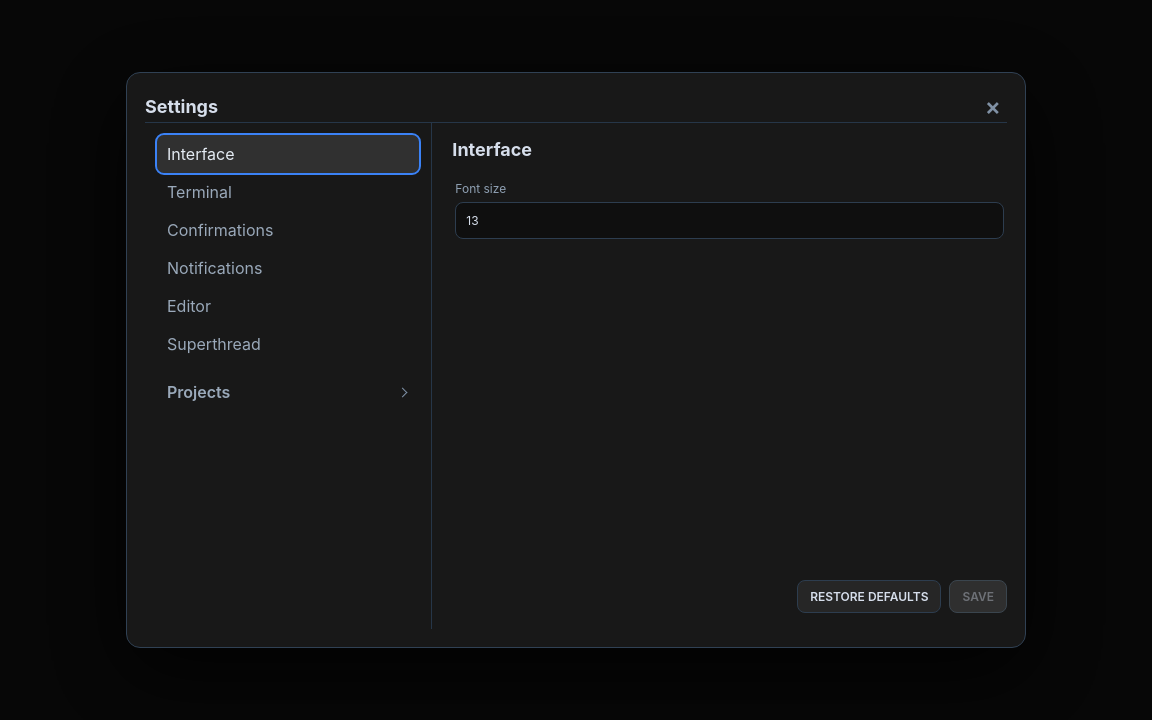
Test: SettingsDialog › exposes global navigation and an accessible right-chevron Projects disclosure
Click the button "Projects" at (199, 392), box [157,373,419,411]
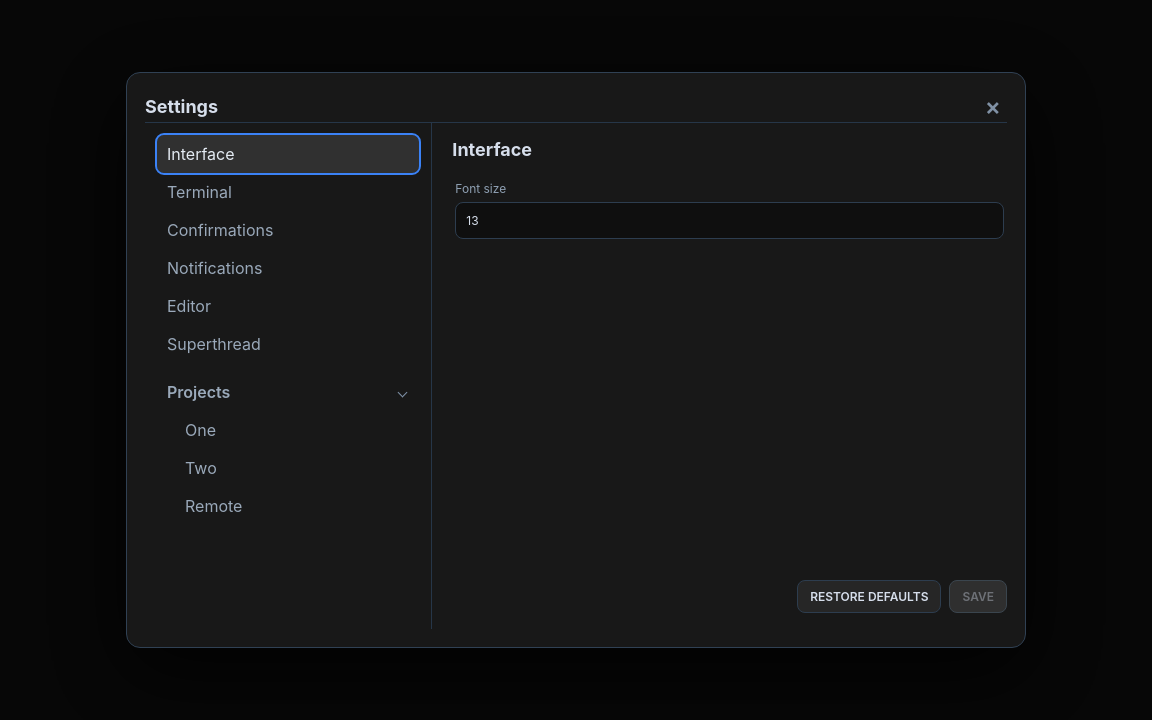
expect the button "One" is shown: met, box [175,411,419,449]
